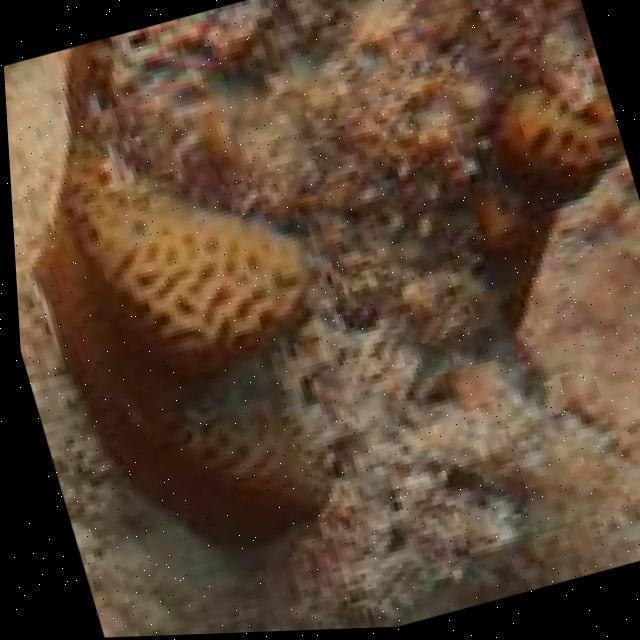Healthy Coral: (0, 86, 367, 576), (480, 71, 627, 250)
